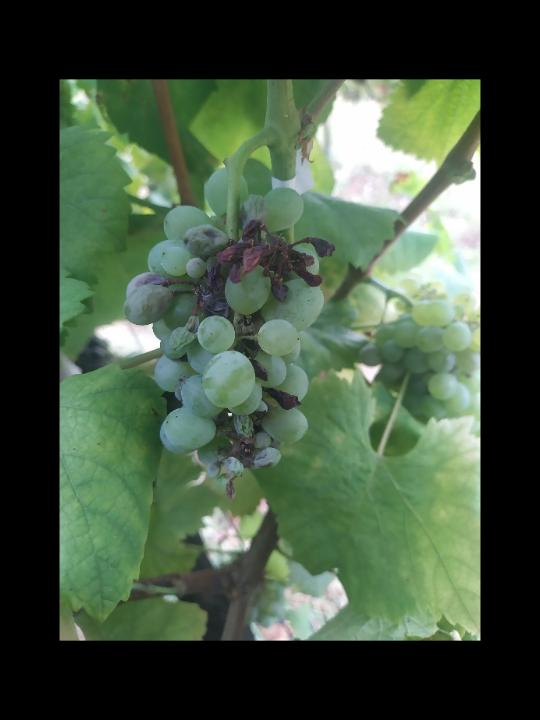grape: (121, 164, 335, 502)
